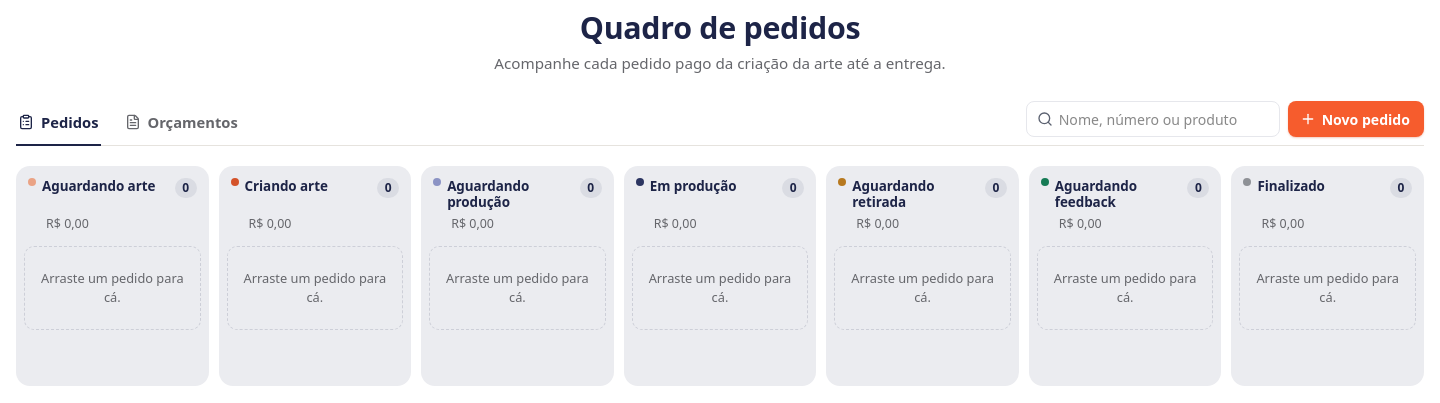
Scenario: painel: aba Orçamentos › tem as colunas delimitadas Aguardando orçamento | Em negociação | Aguardando pagamento
The width and height of the screenshot is (1440, 403).
Click the tab "Orçamentos": x=181, y=124 [122,101,240,146]
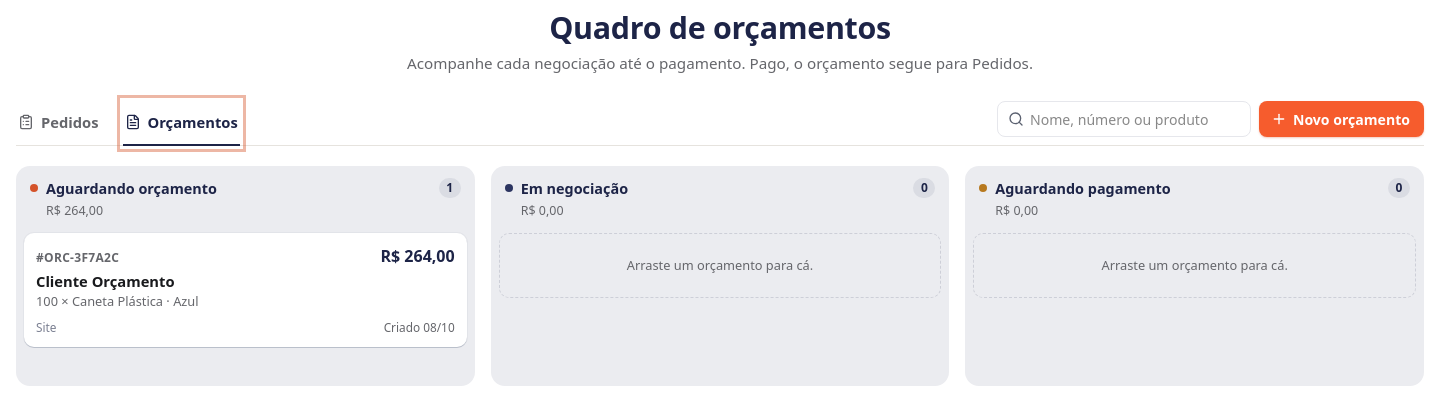
Result: the text "Cliente Orçamento" is shown at [36,271,174,291]
Result: the headings read "Aguardando orçamento", "Em negociação", "Aguardando pagamento", in this order at [46,180,217,197]; [521,180,628,197]; [995,180,1171,197]
